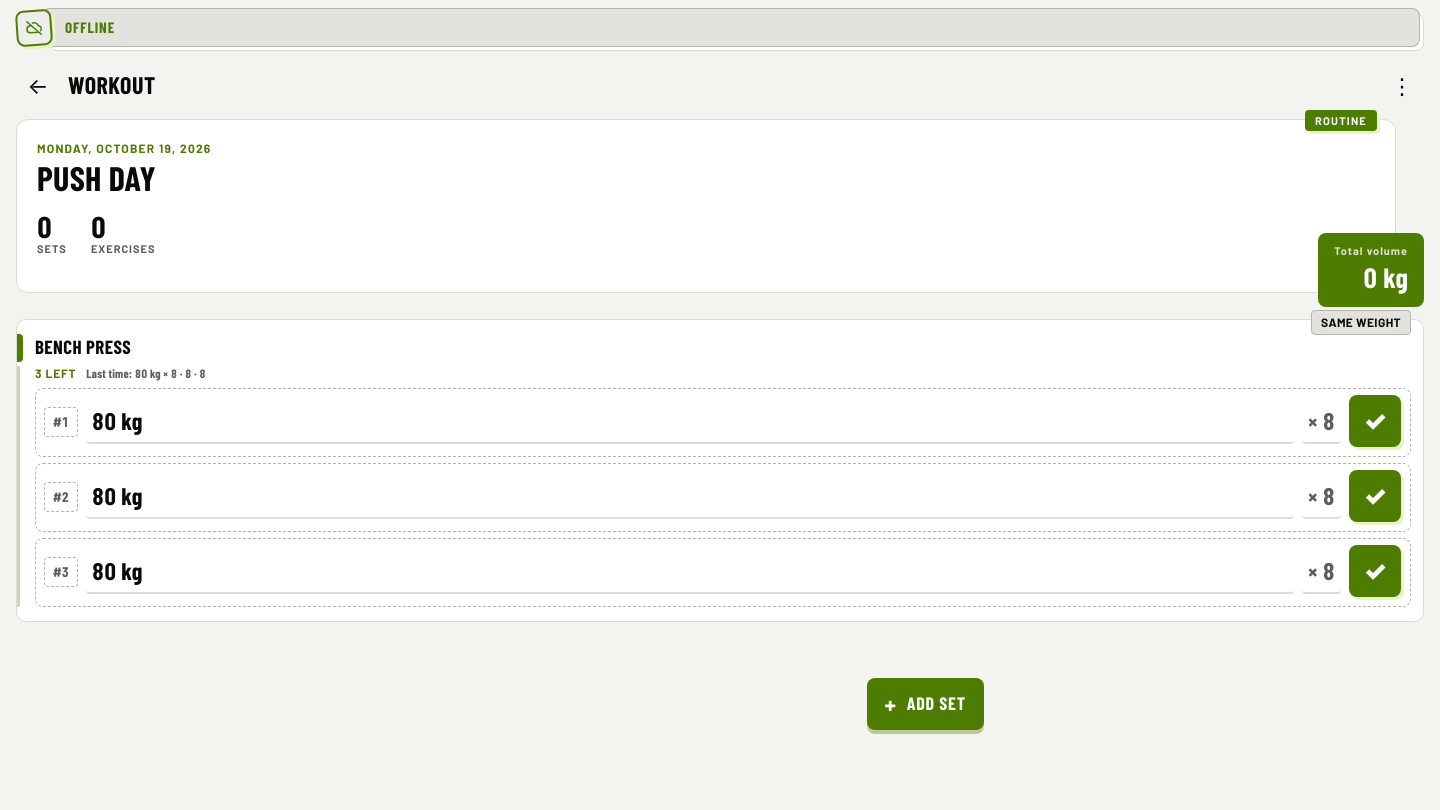
logging sets without signal › shows ticked sets as waiting, then swaps them for the saved ones once back online
The width and height of the screenshot is (1440, 810).
Expected: the element with test id "plan-card-1" is shown, [16, 319, 1424, 622]
What coordinates should you click on to do the following:
click the 1st button "✓"
I would click on:
 (1375, 421)
Its box is [1349, 395, 1401, 447].
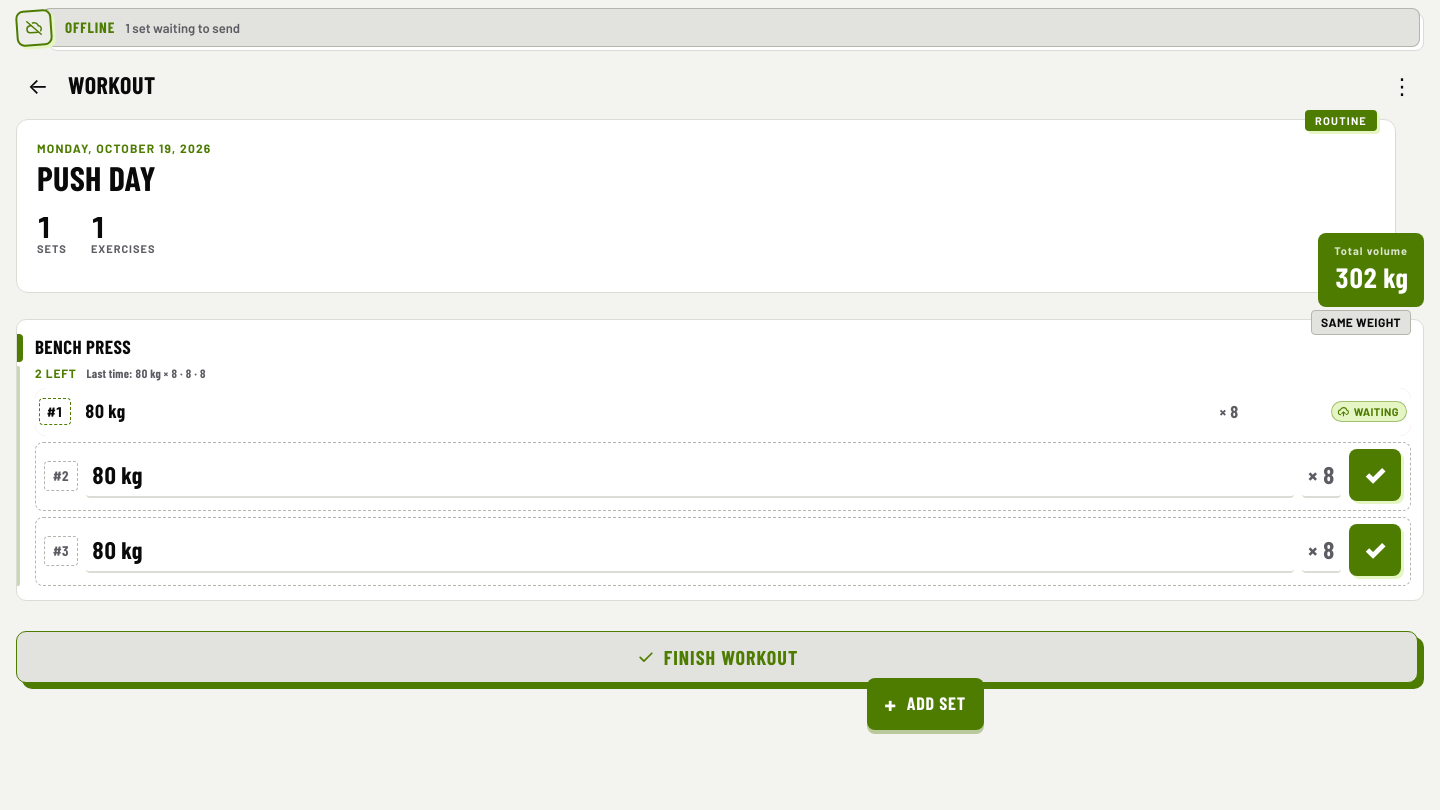
What coordinates should you click on to do the following:
click the 1st button "✓"
I would click on:
 (1375, 475)
Its box is [1349, 449, 1401, 501].
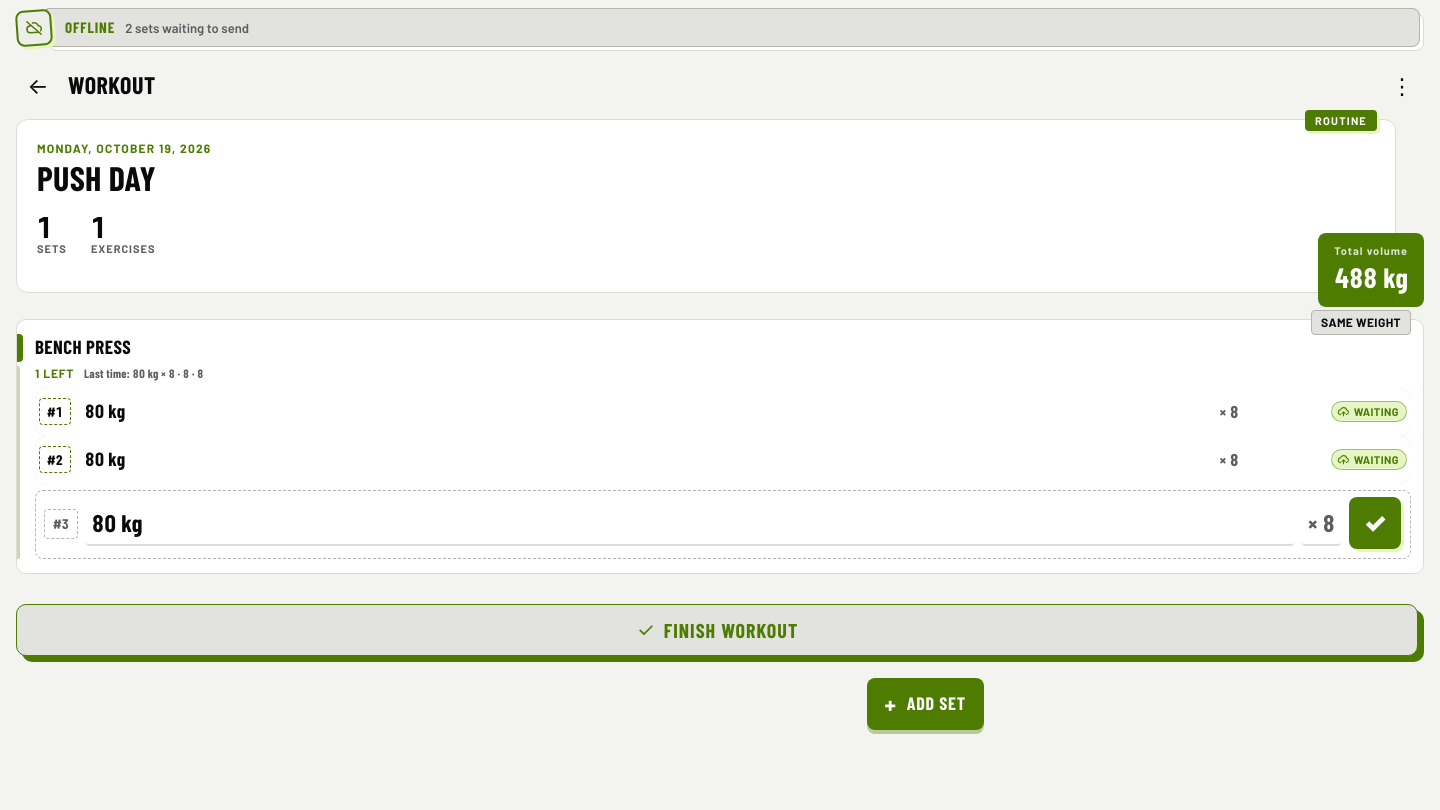
Expected: the text "Offline" is shown, [65, 17, 115, 38]
Now the number of buttons with test id "pending-set" is 2, box [35, 388, 1411, 436]; [35, 436, 1411, 484]
Now the text "waiting" is shown 2 times, box [1331, 401, 1407, 422]; [1331, 449, 1407, 470]
